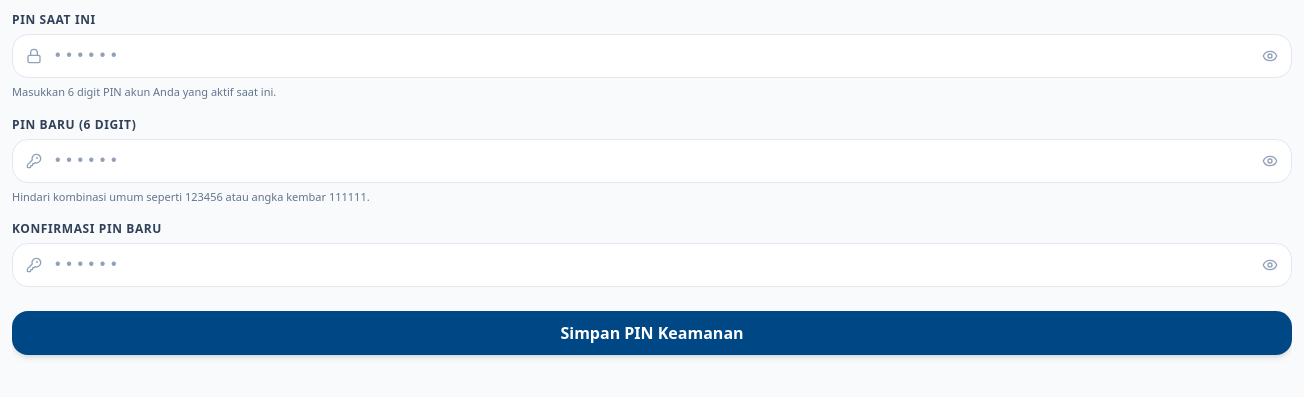
Test: Change PIN Feature (Task P1.4) Tests › ChangePinForm Component › shows validation error on empty submit
The width and height of the screenshot is (1304, 397).
Click the button "Simpan PIN Keamanan" at (652, 333), box [12,311,1292,355]
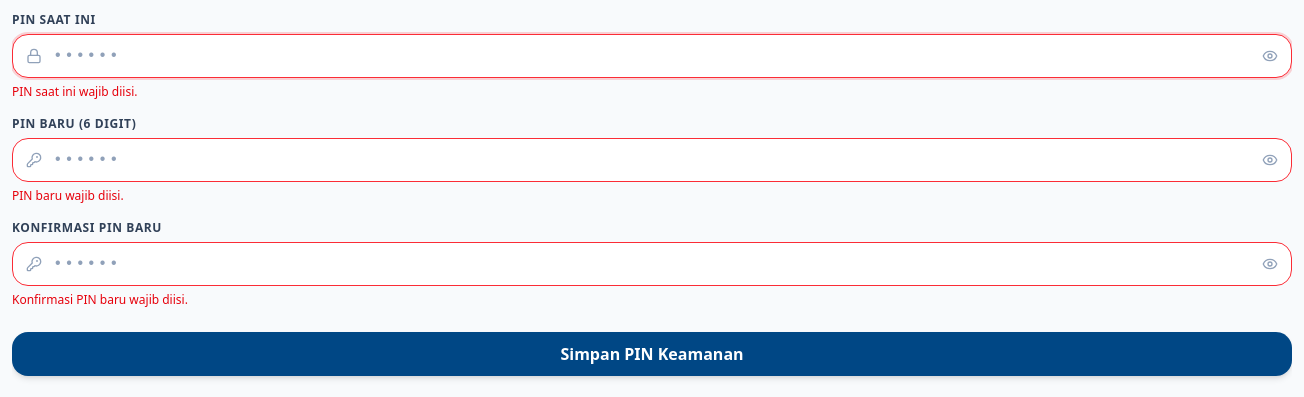
Expected: the text "PIN saat ini wajib diisi." is shown, [12,83,138,100]
Expected: the text "PIN baru wajib diisi." is shown, [12,187,124,204]
